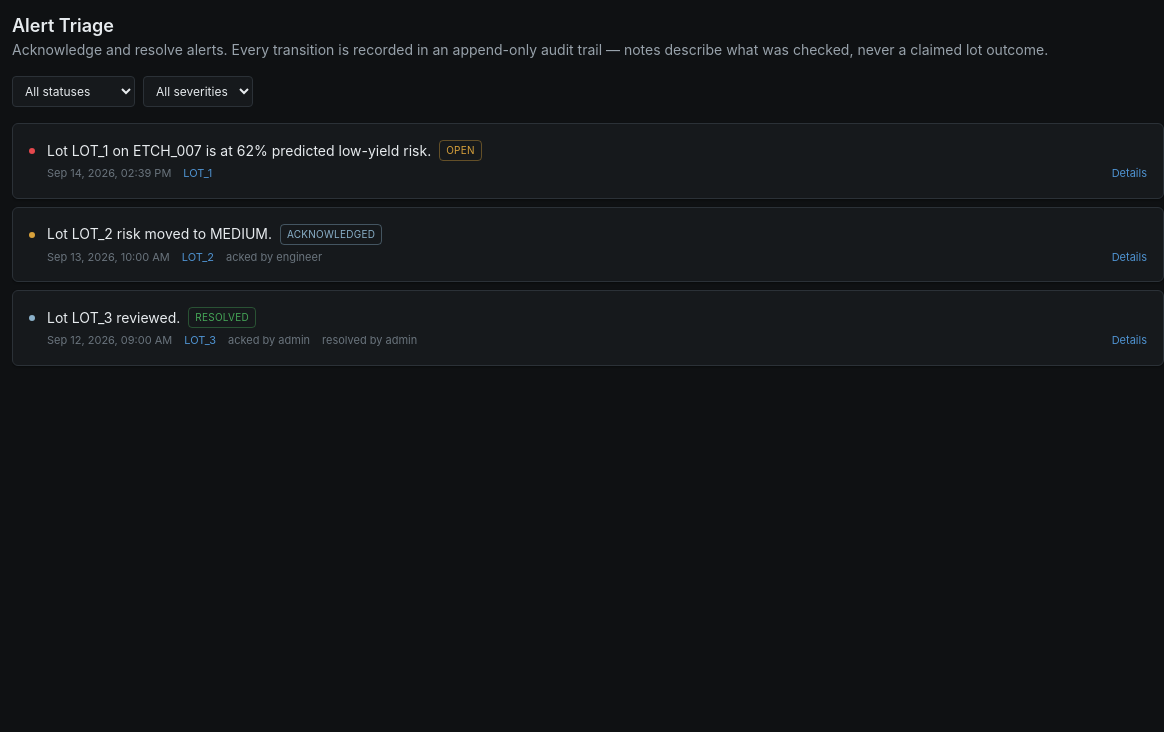
Alerts triage page (Phase 8) › shows the audit timeline and deliveries when expanded
Expected: the text "Lot LOT_1 on ETCH_007 is at 62% predicted low-yield risk." is shown, [47,140,431,160]
Click the button "Details" in the row of "Sep 14, 2026, 02:39 PM" at (1129, 173), box [1112,165,1147,182]
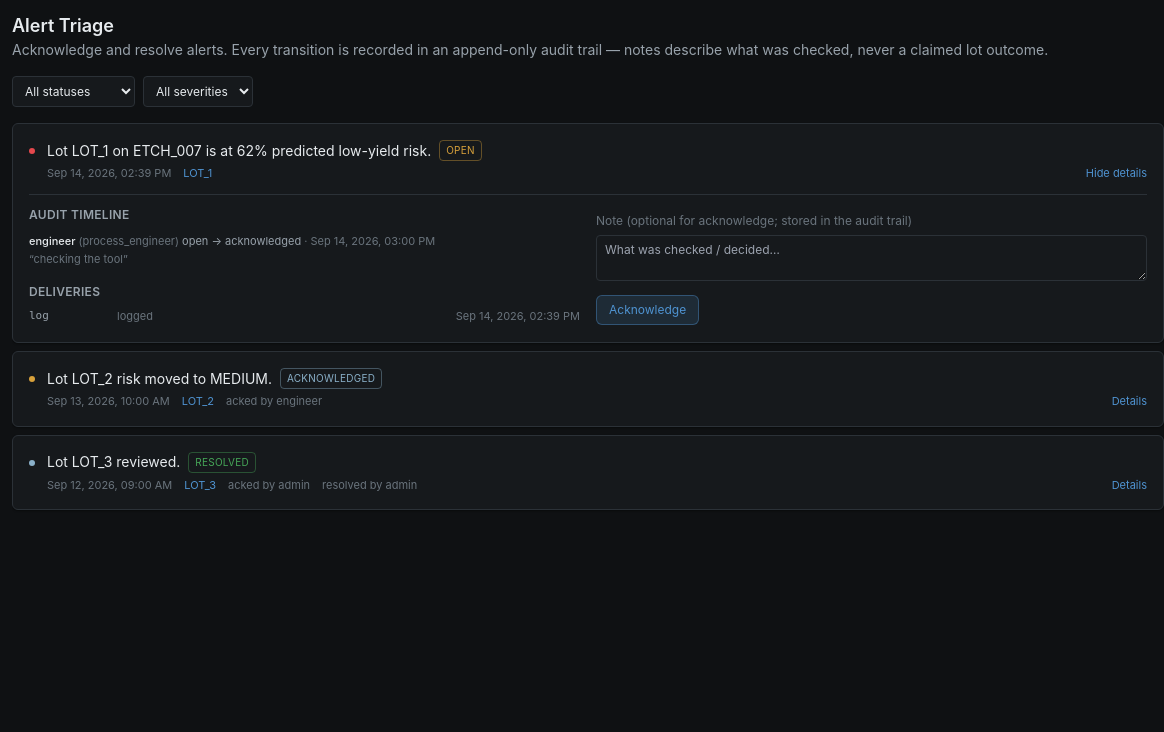
Result: the text "“checking the tool”" is shown at [29,252,128,266]
Result: the text "open → acknowledged" is shown at [182,234,301,248]
Result: the text "logged" is shown at [117,308,153,324]
